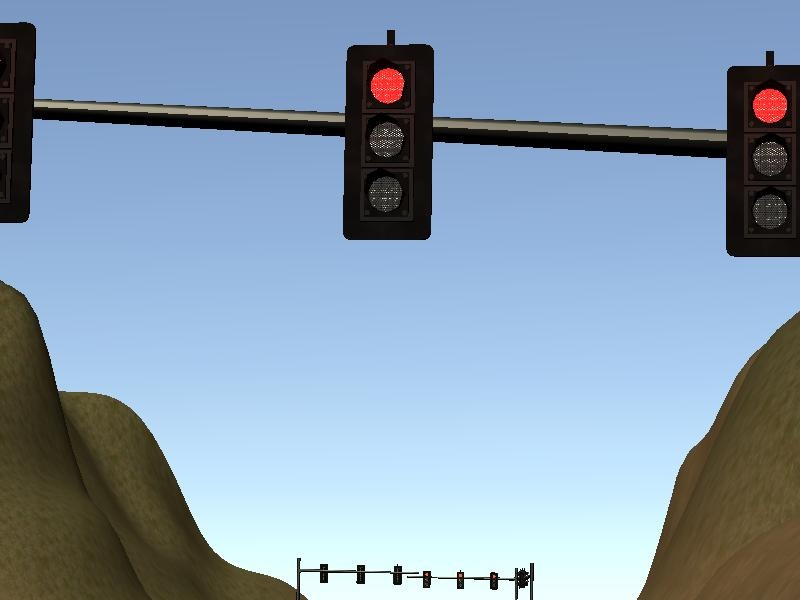RED: (342, 45, 433, 243), (725, 67, 800, 257)
